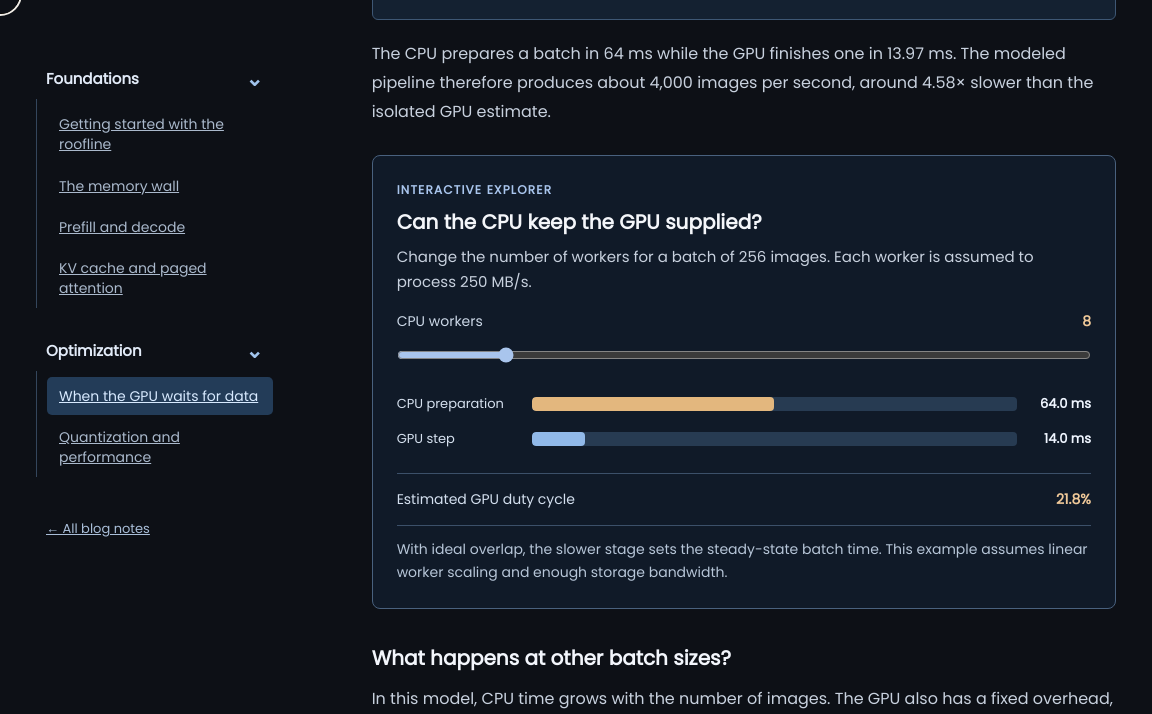
Test: loads deep links and retains optimization interactions
This screenshot has width=1152, height=714.
Later steps or results of the test are not shown.
(page scrolled)
Set the slider labelled "CPU workers 8" to "16" at (621, 355), box [397,347,1091,363]
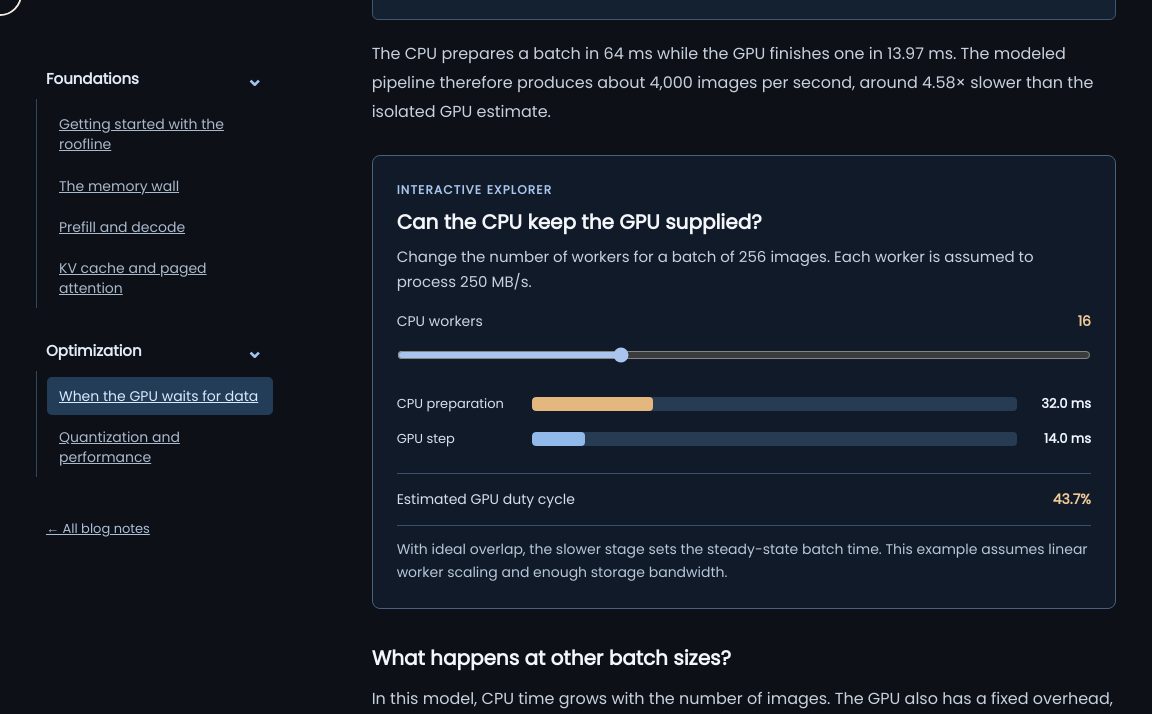
Expected: the text "43.7%" is shown, [1053,489,1091,510]
